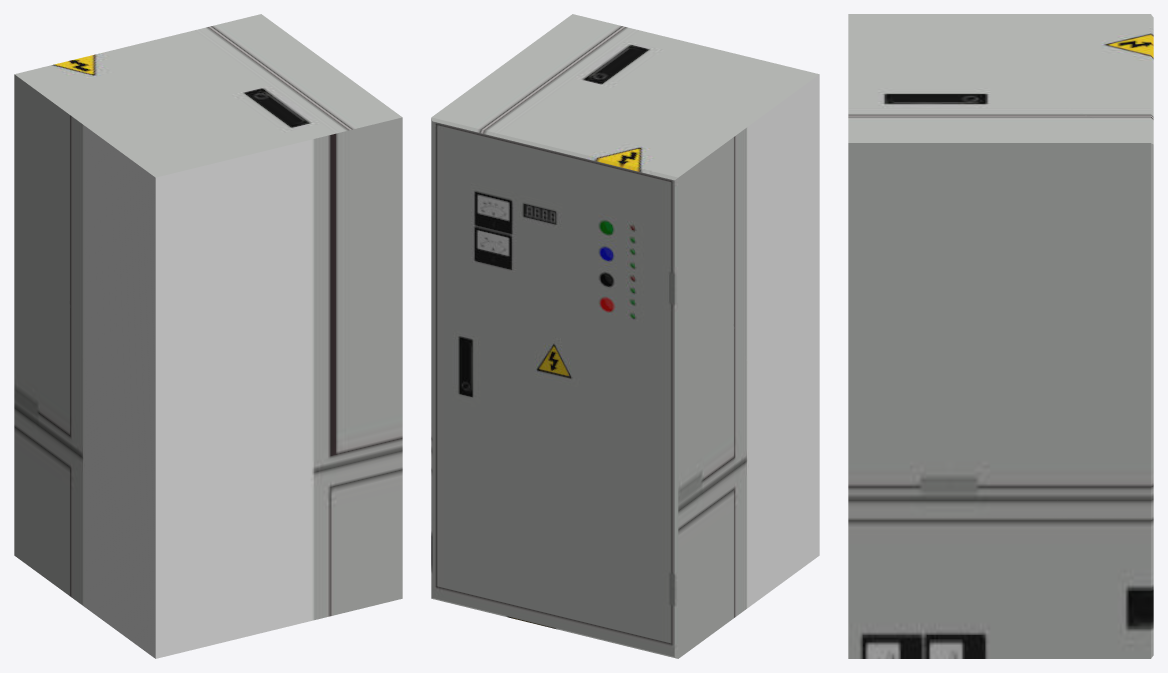
The model's file is electricalbox.fbx.
3 views of the same model, side by side, from view 1: azimuth 30°, elevation 25°; view 2: azimuth 150°, elevation 25°; view 3: azimuth 270°, elevation 25° (orthographic). The views are drawn at different scales.
Visible parts, largest first — view 1: Cube.007; view 2: Cube.007; view 3: Cube.007.
Part boxes in pixels (bbox=[...]): Cube.007: bbox=[14, 14, 402, 658]; Cube.007: bbox=[431, 14, 819, 658]; Cube.007: bbox=[848, 14, 1153, 658].
Bounding box in the file's own units: 200 × 372 × 200.
1 material, 1 textured.
